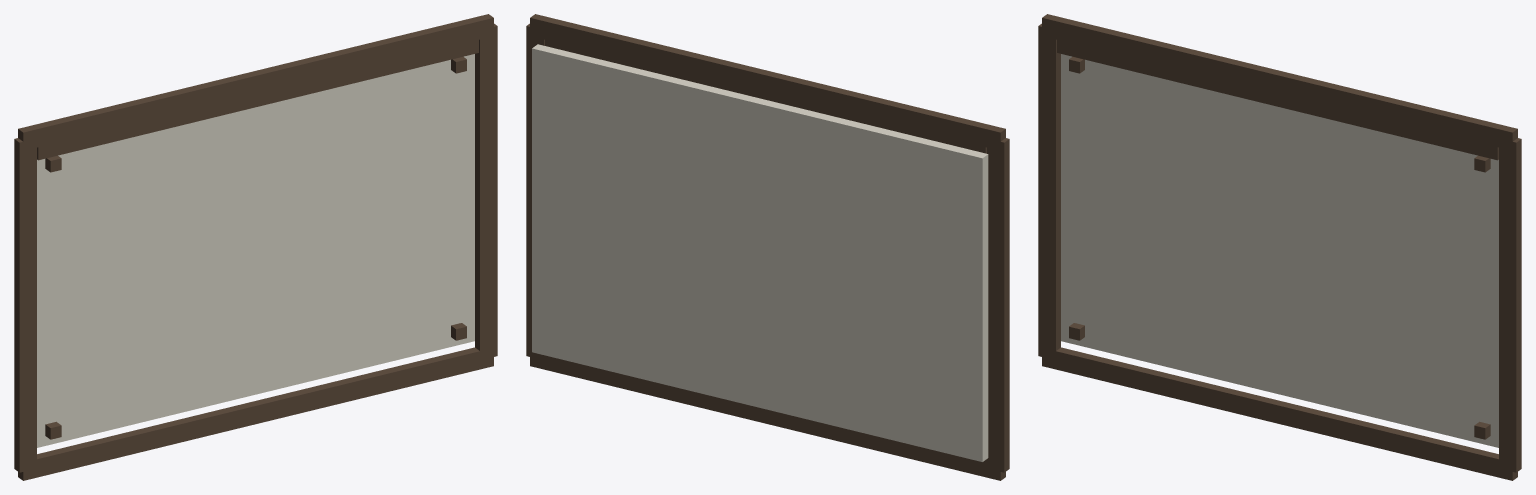
The model's file is boards--doorplate--v1--model.glb.
3 views of the same model, side by side, from view 1: azimuth 30°, elevation 25°; view 2: azimuth 150°, elevation 25°; view 3: azimuth 330°, elevation 25° (orthographic).
Parts seen in each view (by area): view 1: information-back, doorplate-outer-top, doorplate-outer-bottom, doorplate-outer-left, doorplate-outer-right, doorplate-step-top; view 2: information-back, doorplate-outer-top, doorplate-outer-bottom, doorplate-outer-left, doorplate-step-top, doorplate-outer-right; view 3: information-back, doorplate-outer-top, doorplate-outer-bottom, doorplate-outer-right, doorplate-outer-left, doorplate-step-top.
Boxes of the visible parts, left/top/right/bottom form: information-back: left=37, top=54, right=474, bottom=447; doorplate-outer-top: left=18, top=14, right=493, bottom=150; doorplate-outer-bottom: left=18, top=347, right=493, bottom=480; doorplate-outer-left: left=14, top=138, right=36, bottom=472; doorplate-outer-right: left=475, top=23, right=497, bottom=359; doorplate-step-top: left=37, top=40, right=478, bottom=160; information-back: left=532, top=44, right=988, bottom=461; doorplate-outer-top: left=530, top=14, right=1005, bottom=150; doorplate-outer-bottom: left=530, top=348, right=1005, bottom=480; doorplate-outer-left: left=987, top=138, right=1009, bottom=472; doorplate-step-top: left=545, top=40, right=986, bottom=153; doorplate-outer-right: left=526, top=23, right=544, bottom=359; information-back: left=1061, top=54, right=1498, bottom=447; doorplate-outer-top: left=1042, top=14, right=1517, bottom=150; doorplate-outer-bottom: left=1042, top=347, right=1517, bottom=480; doorplate-outer-right: left=1499, top=138, right=1521, bottom=472; doorplate-outer-left: left=1038, top=23, right=1060, bottom=359; doorplate-step-top: left=1057, top=40, right=1498, bottom=160.
Size of the model in its own units: 0.955 by 0.665 by 0.047.
